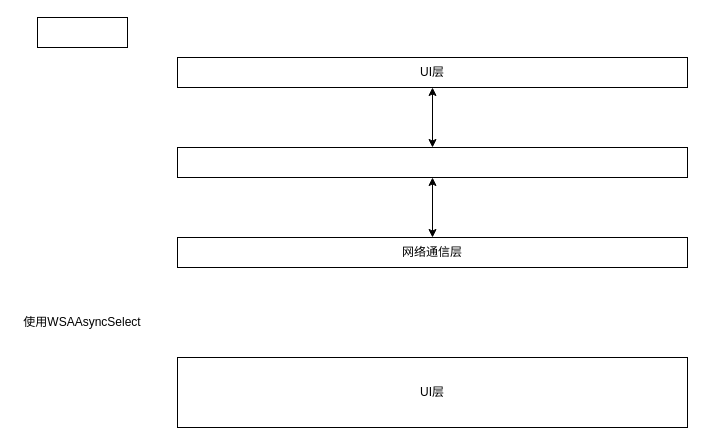
Some shapes in this 705 by 445 pixel diagram are drawn without their labels. The centre of each missing label's shape, as x and y in pixels:
"数据处理层" belongs at (x=432, y=162).
"整体架构设计1" belongs at (x=82, y=32).
